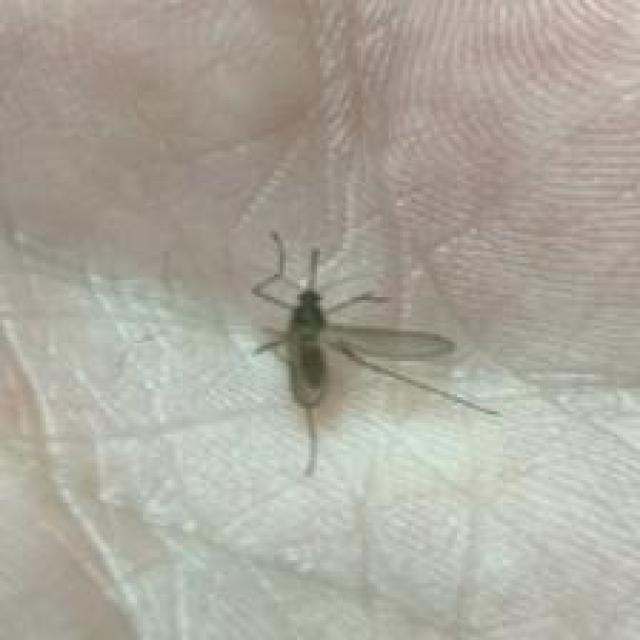Culex: (247, 229, 502, 477)
